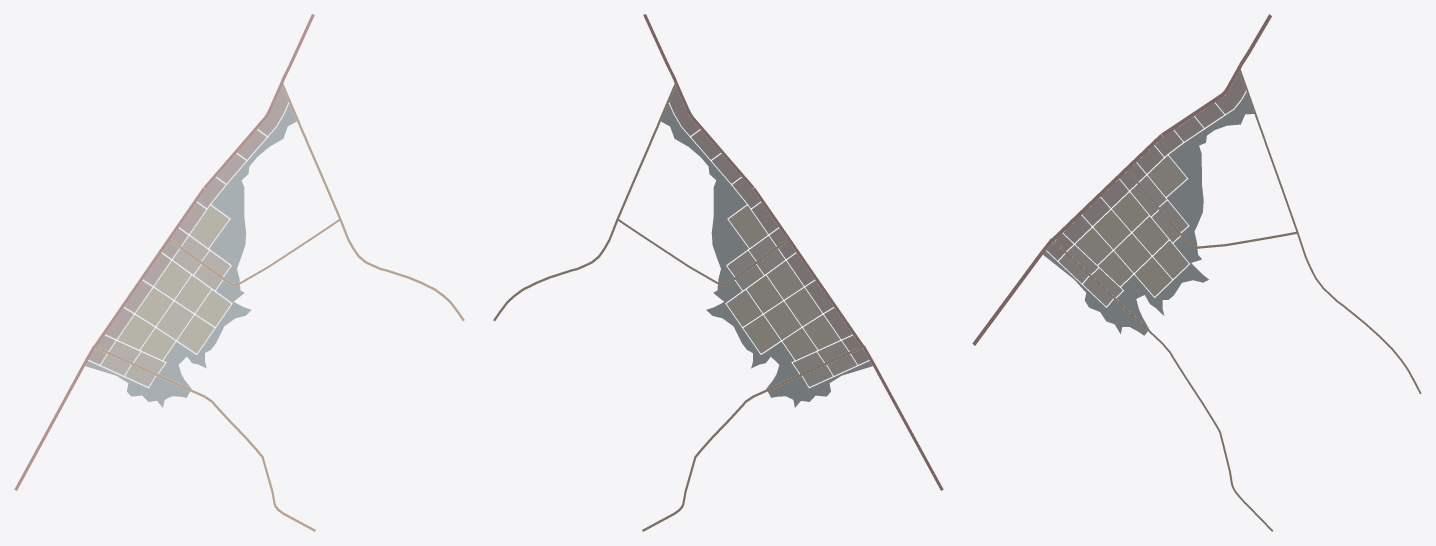
File: streets.gltf
The picture shows the model from 3 angles, left to right: view 1: azimuth 30°, elevation 25°; view 2: azimuth 150°, elevation 25°; view 3: azimuth 330°, elevation 25°; orthographic projection.
Visible parts, largest first — view 1: obj_tri; view 2: obj_tri; view 3: obj_tri.
Boxes of the visible parts, x1,y1,x2,y2 form: obj_tri: [14, 14, 464, 531]; obj_tri: [493, 14, 943, 531]; obj_tri: [972, 14, 1421, 531].
Size of the model in its own units: 2146 by 2361 by 0.2.
